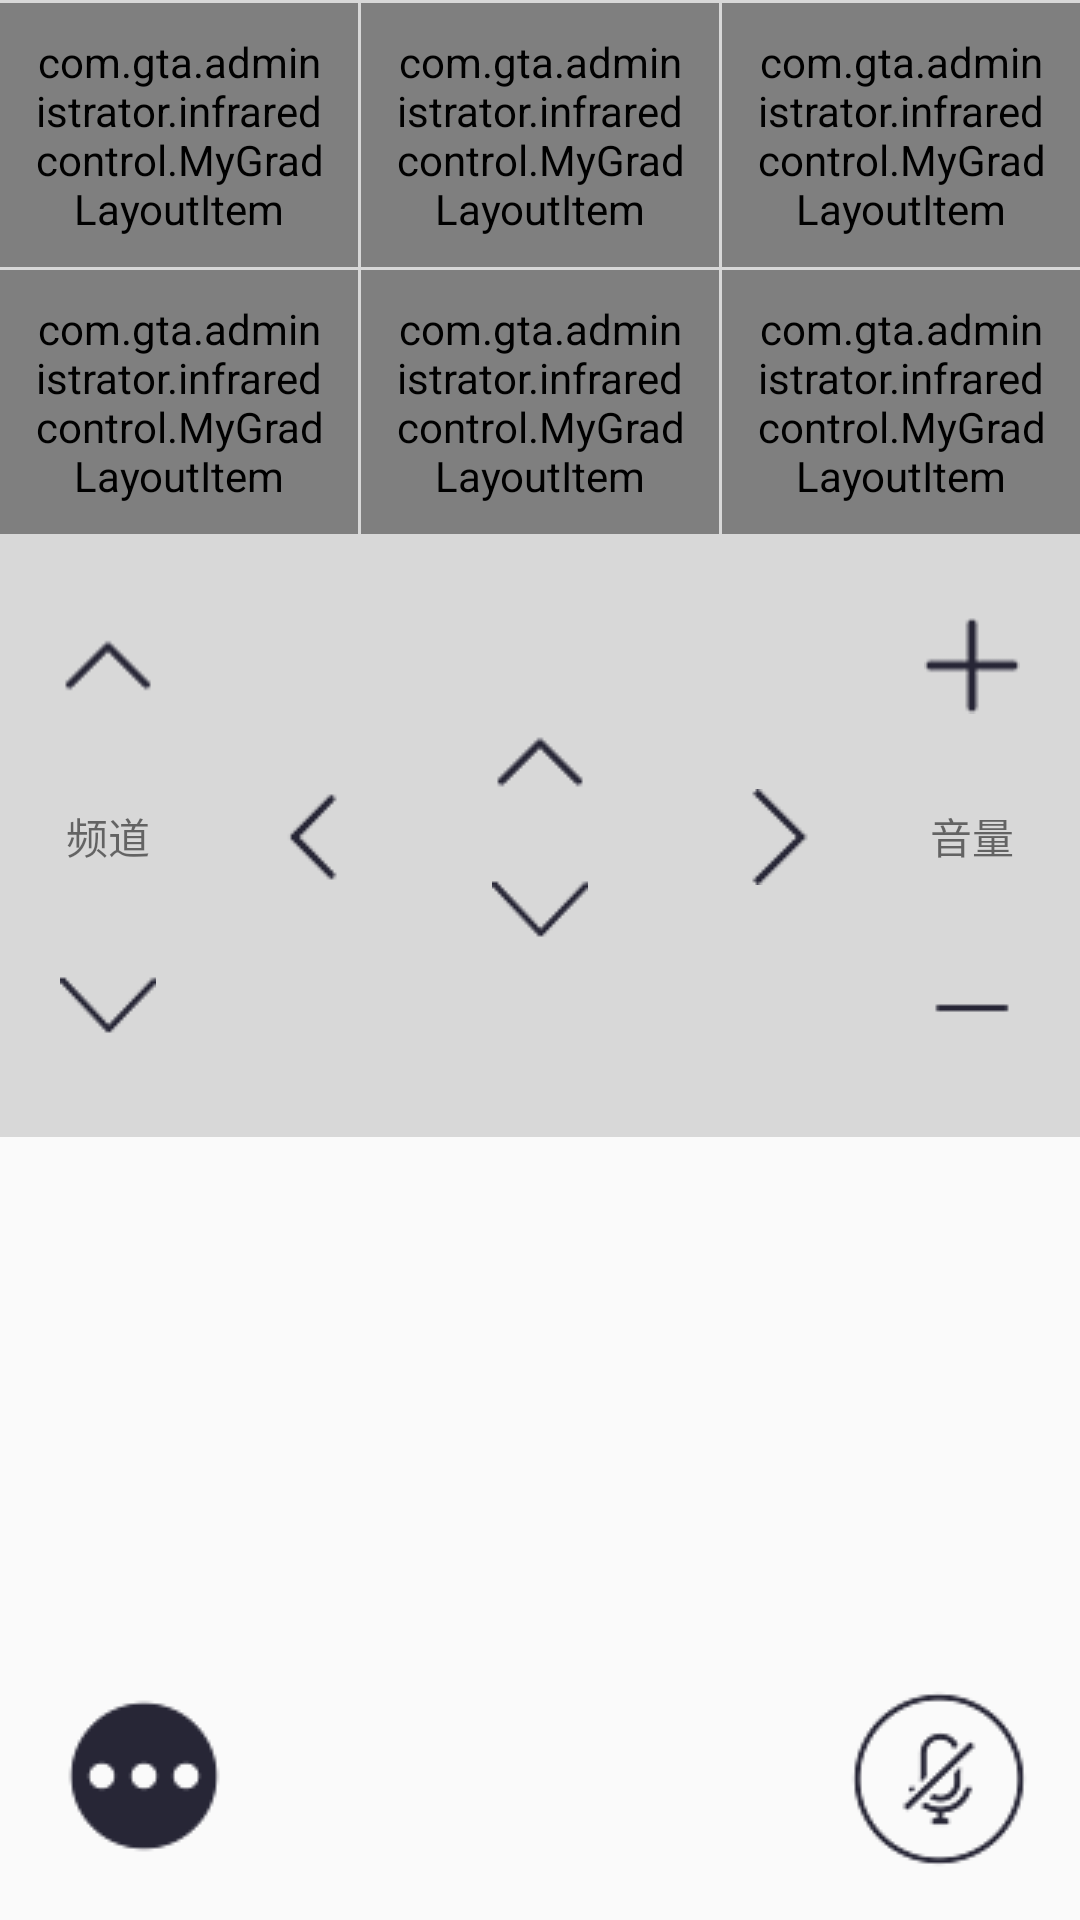

Icons on this 1080*1920 Android screen, each with the point to tap as (x,y):
down: (540,909), (108,1005)
etc: (144,1776)
left: (313,837)
mute: (939,1779)
plus: (971,665)
right: (779,837)
